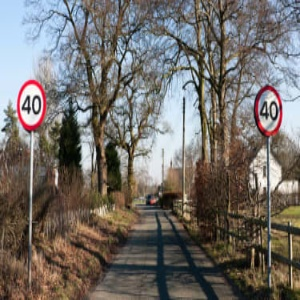40 speed: (17, 80, 47, 131), (255, 86, 283, 137)
